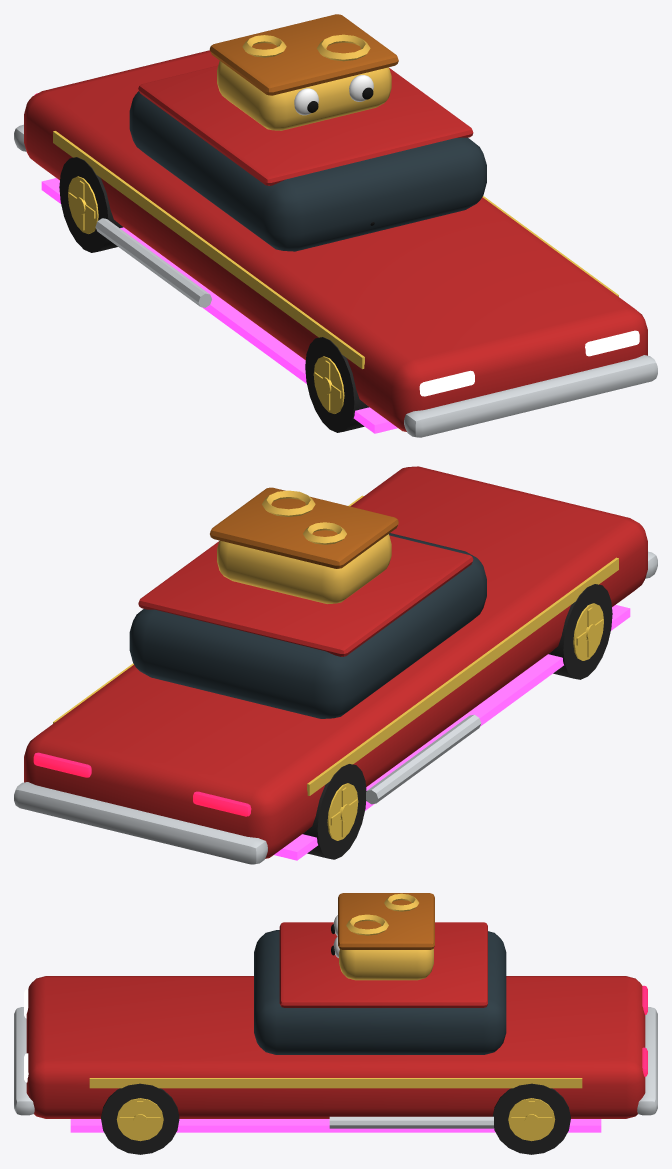
The model's file is underworld_gangcar.glb.
3 views of the same model, one above another, from view 1: azimuth 30°, elevation 25°; view 2: azimuth 150°, elevation 25°; view 3: azimuth 270°, elevation 25° (orthographic). The views are drawn at different scales.
Visible parts, largest first — view 1: UWGangcar_body, Wheel_FR.001, Wheel_RR.001; view 2: UWGangcar_body, Wheel_FR.001, Wheel_RR.001; view 3: UWGangcar_body, Wheel_FL.001, Wheel_RL.001.
Part boxes in pixels (x1,y1,x2,y2): UWGangcar_body: [14, 14, 657, 437]; Wheel_FR.001: [305, 337, 369, 432]; Wheel_RR.001: [59, 157, 123, 252]; UWGangcar_body: [14, 466, 657, 864]; Wheel_FR.001: [548, 584, 612, 679]; Wheel_RR.001: [303, 764, 366, 859]; UWGangcar_body: [14, 893, 657, 1132]; Wheel_FL.001: [101, 1083, 179, 1154]; Wheel_RL.001: [492, 1083, 570, 1154].
Bounding box in the file's own units: 2.06 × 1.69 × 5.1.
